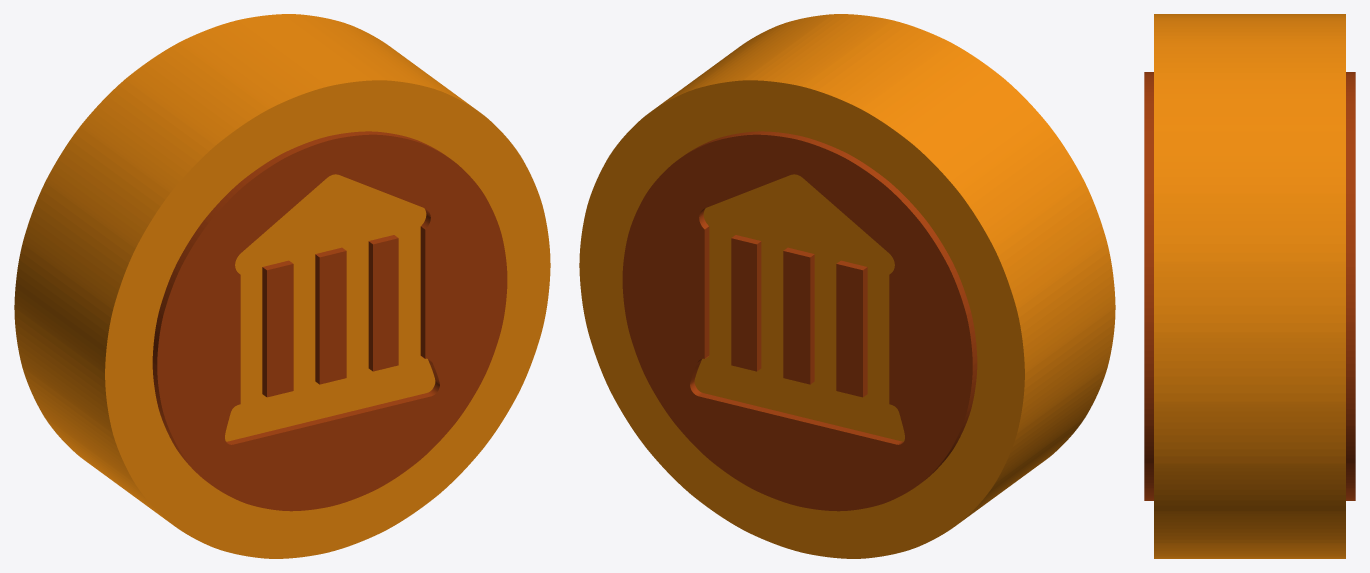
3 views of the same model, side by side, from view 1: azimuth 30°, elevation 25°; view 2: azimuth 150°, elevation 25°; view 3: azimuth 270°, elevation 25° (orthographic). The views are drawn at different scales.
Parts seen in each view (by area): view 1: U+1FA99_layer00_obj00, U+1FA99_layer01_obj00; view 2: U+1FA99_layer00_obj00, U+1FA99_layer01_obj00; view 3: U+1FA99_layer00_obj00, U+1FA99_layer01_obj00.
Part boxes in pixels (x1,y1,x2,y2): U+1FA99_layer00_obj00: (14,14,550,558); U+1FA99_layer01_obj00: (152,131,507,511); U+1FA99_layer00_obj00: (579,14,1115,558); U+1FA99_layer01_obj00: (622,131,977,511); U+1FA99_layer00_obj00: (1154,14,1345,558); U+1FA99_layer01_obj00: (1144,72,1355,500).
Bounding box in the file's own units: 0.5678 × 0.5677 × 0.22.
